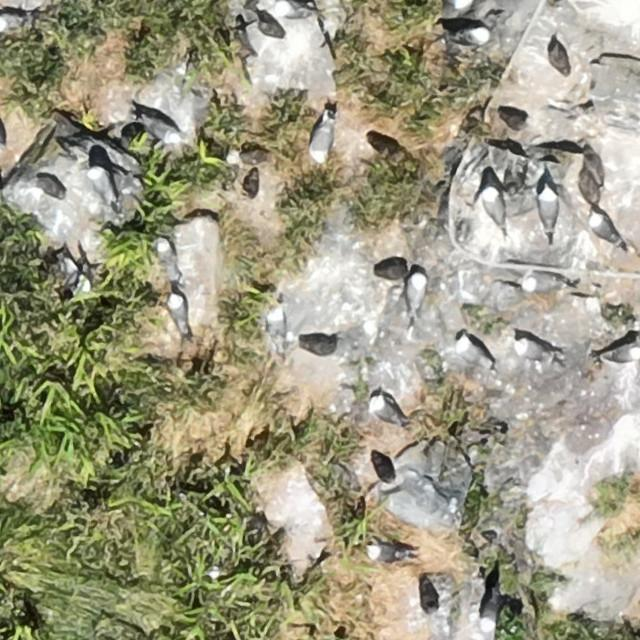umineko: (482, 185, 511, 232), (454, 336, 496, 368), (480, 586, 502, 634), (157, 238, 181, 281), (268, 304, 286, 356), (310, 121, 332, 158), (589, 216, 613, 243), (407, 275, 425, 310), (516, 339, 546, 360), (524, 273, 561, 290), (167, 295, 186, 328), (372, 398, 397, 423), (540, 188, 556, 224), (258, 17, 285, 38), (228, 151, 258, 169), (88, 170, 107, 197), (606, 346, 639, 361), (368, 545, 398, 561), (464, 26, 489, 44), (1, 14, 24, 31)
